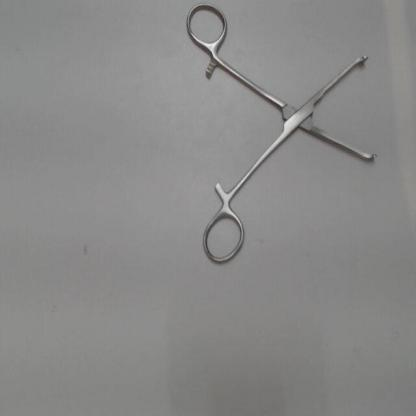Allis Tissue Forceps: (180, 2, 382, 267)
